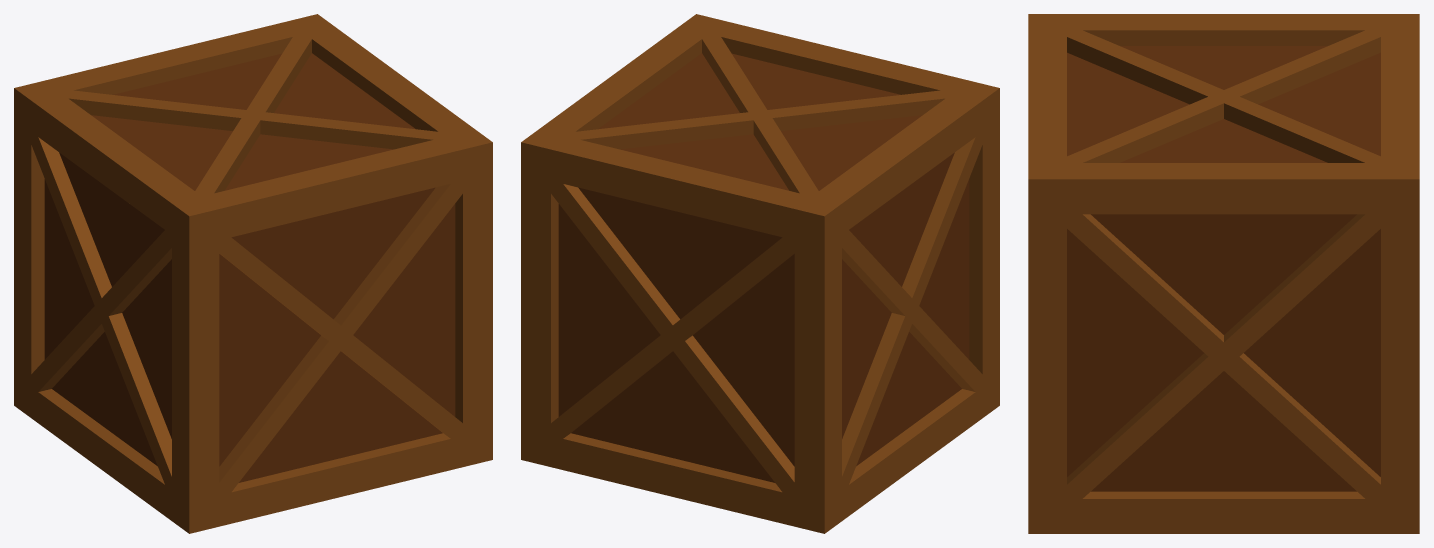
Rendered from crate.obj.
3 renders of one model, left to right at view 1: azimuth 30°, elevation 25°; view 2: azimuth 150°, elevation 25°; view 3: azimuth 270°, elevation 25°, orthographic. The views are drawn at different scales.
Visible parts, largest first — view 1: Crate.004; view 2: Crate.004; view 3: Crate.004.
Boxes of the visible parts, left/top/right/bottom form: Crate.004: left=14, top=14, right=492, bottom=533; Crate.004: left=521, top=14, right=999, bottom=533; Crate.004: left=1028, top=14, right=1419, bottom=533.
Bounding box in the file's own units: 2 × 2 × 2.
